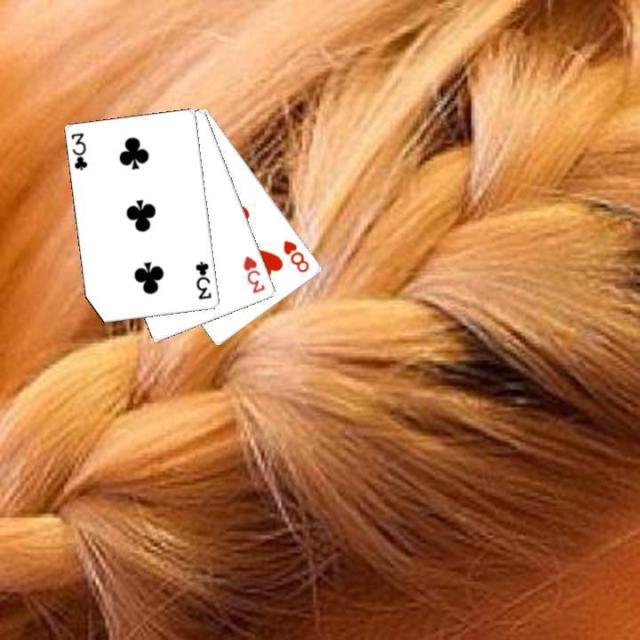3C: (67, 129, 89, 172), (192, 258, 213, 301)
3H: (240, 253, 268, 295)
8H: (279, 236, 311, 274)
